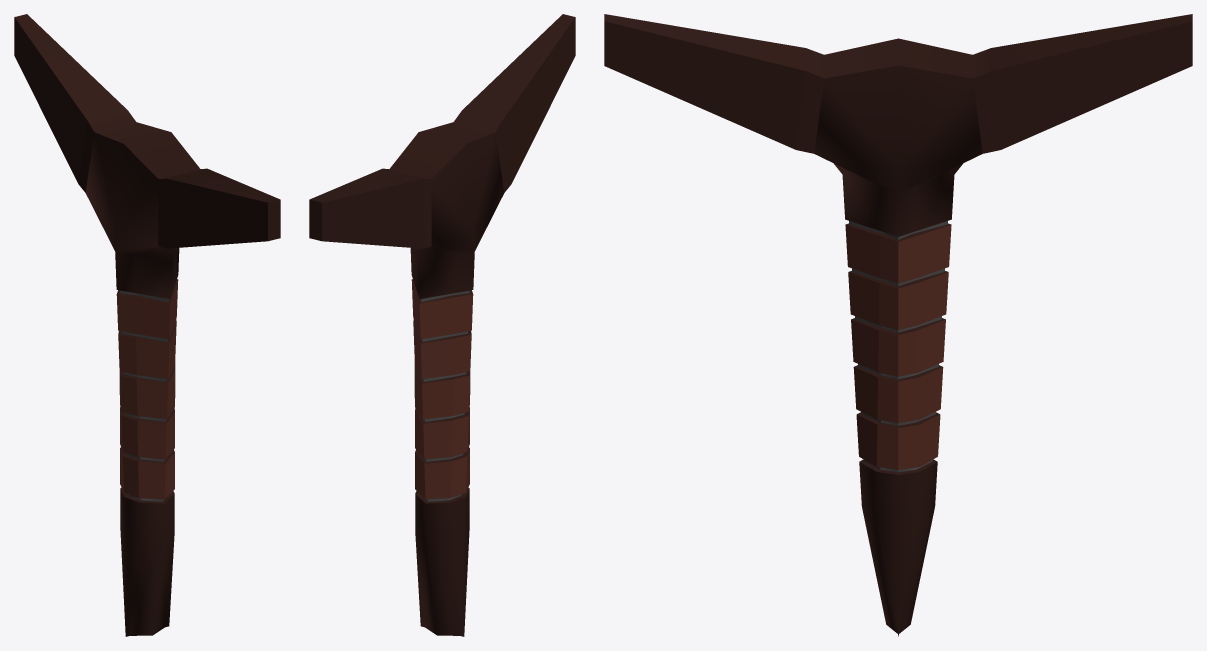
The model's file is Short Sword.004.glb.
3 renders of one model, left to right at view 1: azimuth 30°, elevation 25°; view 2: azimuth 150°, elevation 25°; view 3: azimuth 270°, elevation 25°, orthographic. The views are drawn at different scales.
Visible parts, largest first — view 1: Short Sword.004; view 2: Short Sword.004; view 3: Short Sword.004.
Part boxes in pixels (box(x1,y1,x2,y2)): Short Sword.004: box(14, 14, 280, 636); Short Sword.004: box(309, 14, 575, 636); Short Sword.004: box(604, 14, 1192, 636).
Bounding box in the file's own units: 0.0259 × 0.2001 × 0.1757.
